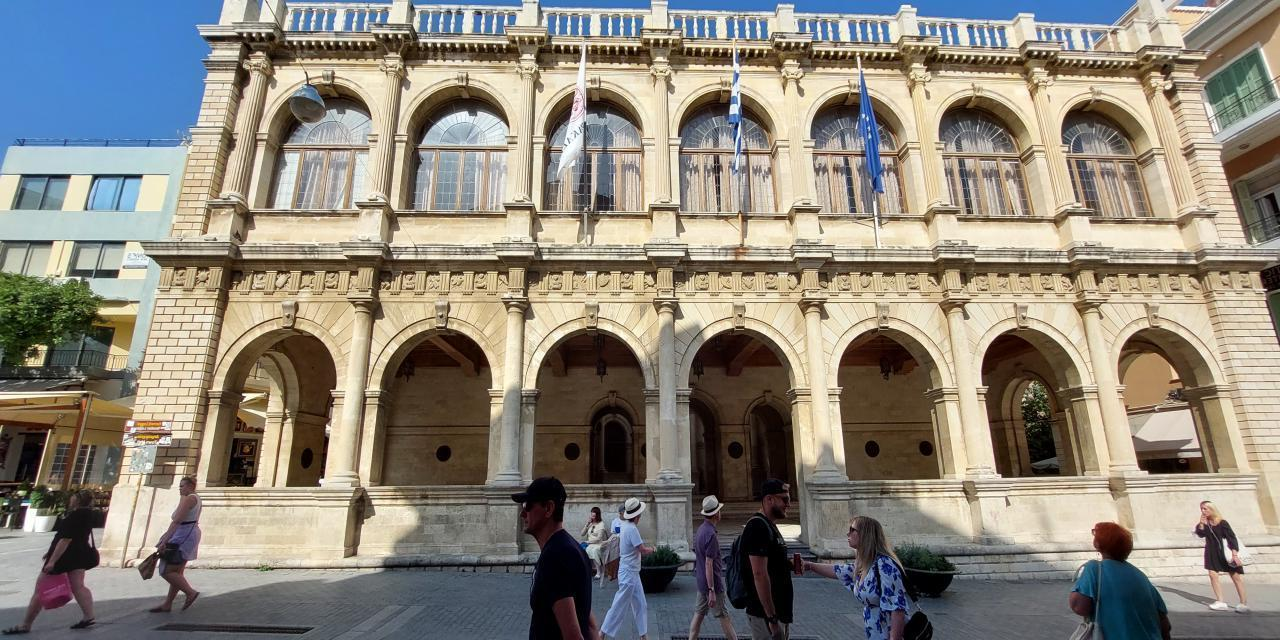Loggia: (76, 1, 1280, 574)
